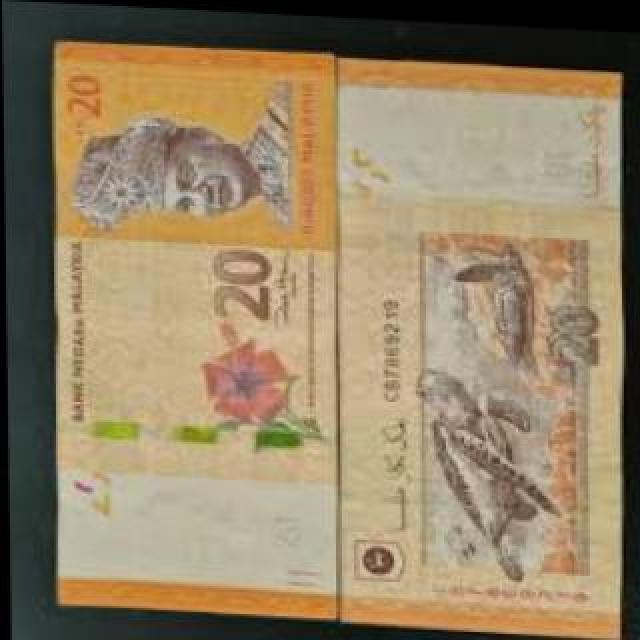20 Ringgit: (336, 48, 627, 632), (52, 38, 341, 621)
